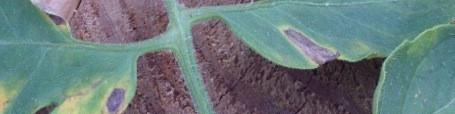Tomato leaf bacterial spot: (215, 0, 455, 86), (0, 0, 148, 114)
